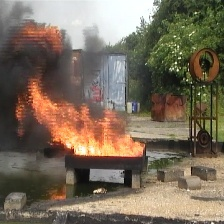fire: (12, 73, 136, 157), (15, 20, 63, 48), (51, 190, 66, 200)
